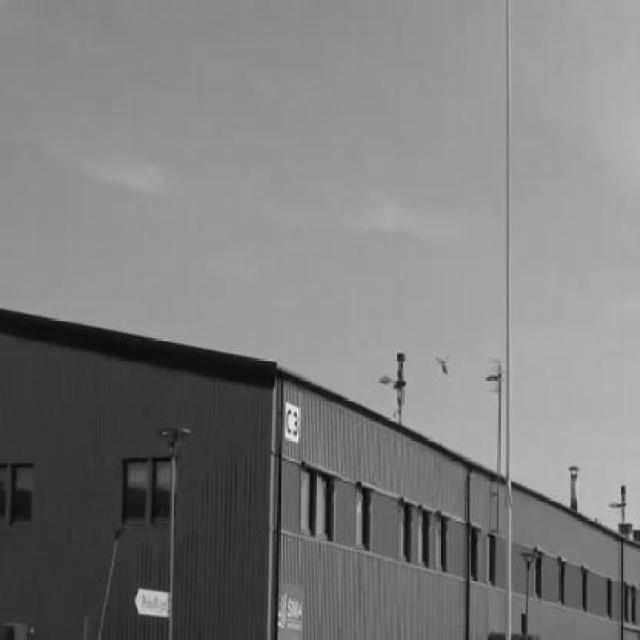helikopter: (430, 351, 455, 384)
